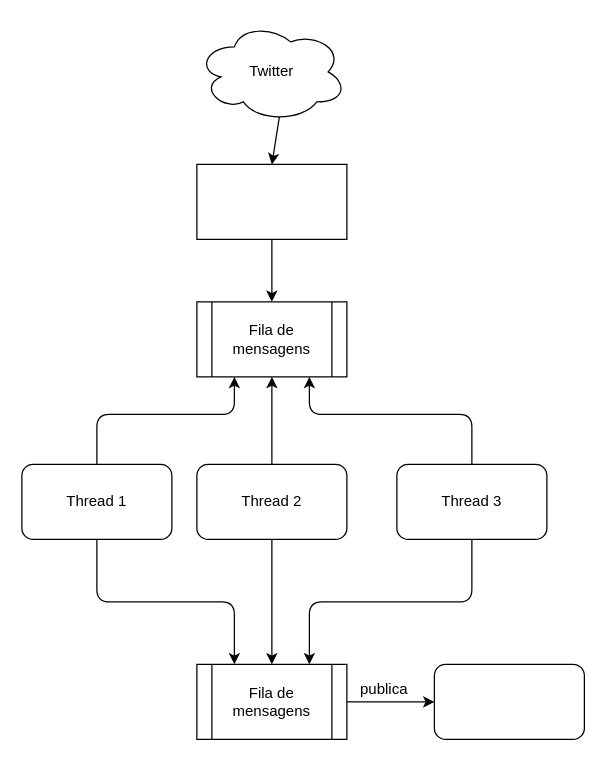
Image size: 606x761. Some labels were removed from this diagram. The box of each missing label's shape, as (x1, y1, x2, y2) in pixels:
Crawler: (196, 163, 347, 239)
Interface de notificação por tópicos: (433, 663, 584, 739)
